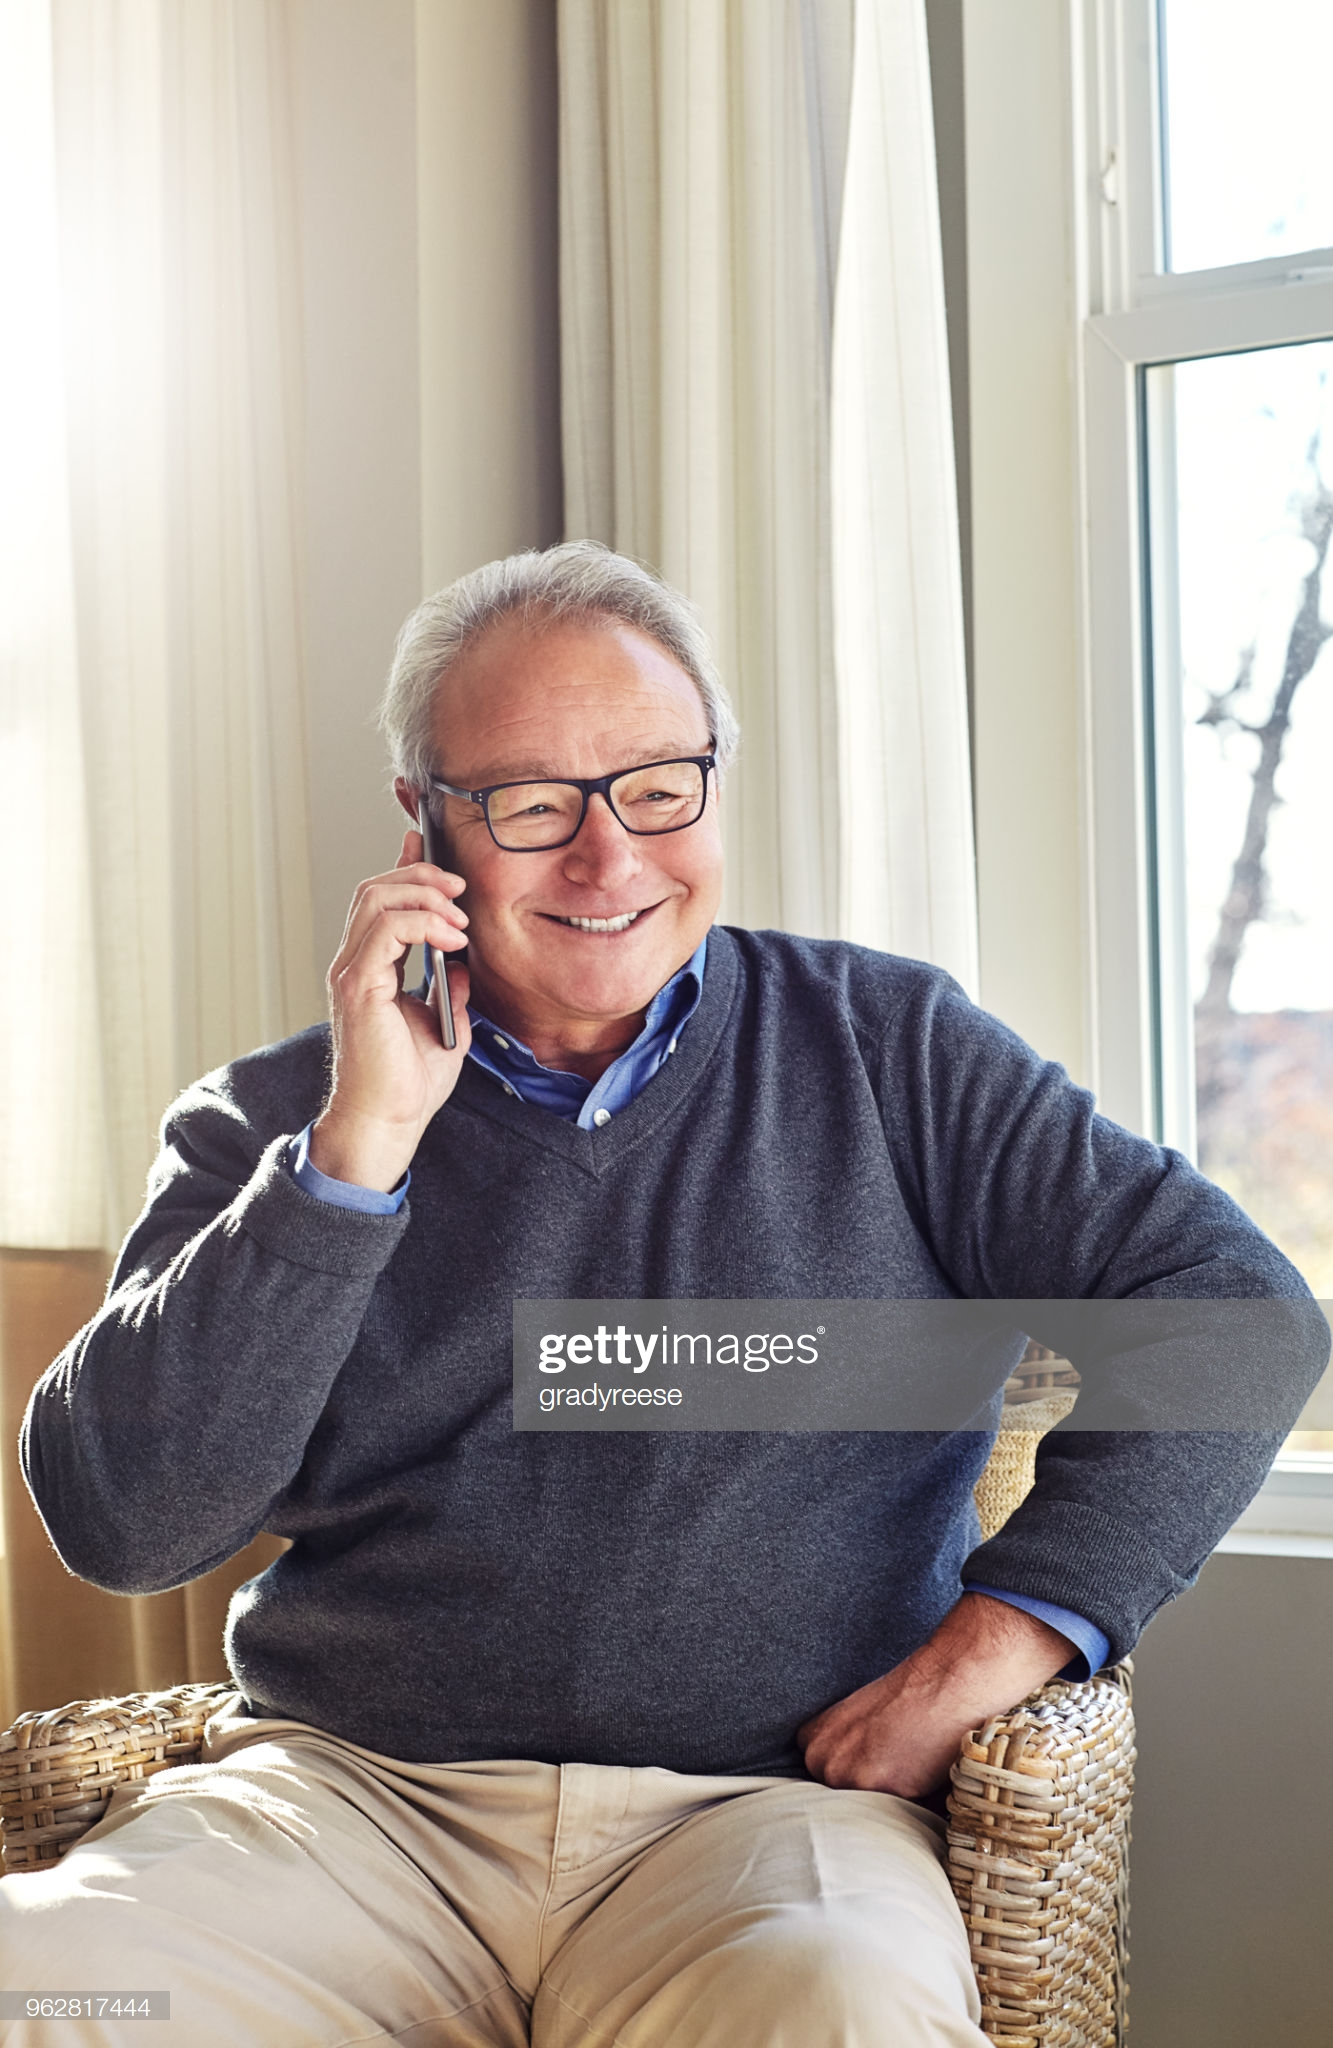phone: (363, 778, 476, 1037)
talk: (305, 725, 722, 1111)
